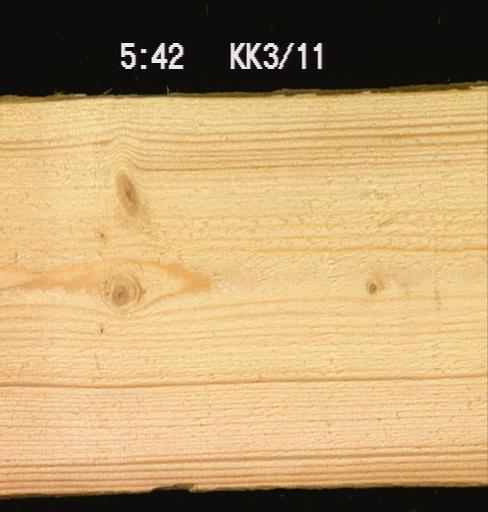small_knot: (365, 279, 379, 296)
sound_knot: (105, 273, 134, 311)
wave: (0, 91, 144, 100)
